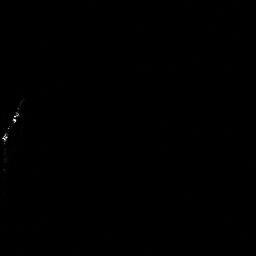ship: (2, 111, 20, 140)
